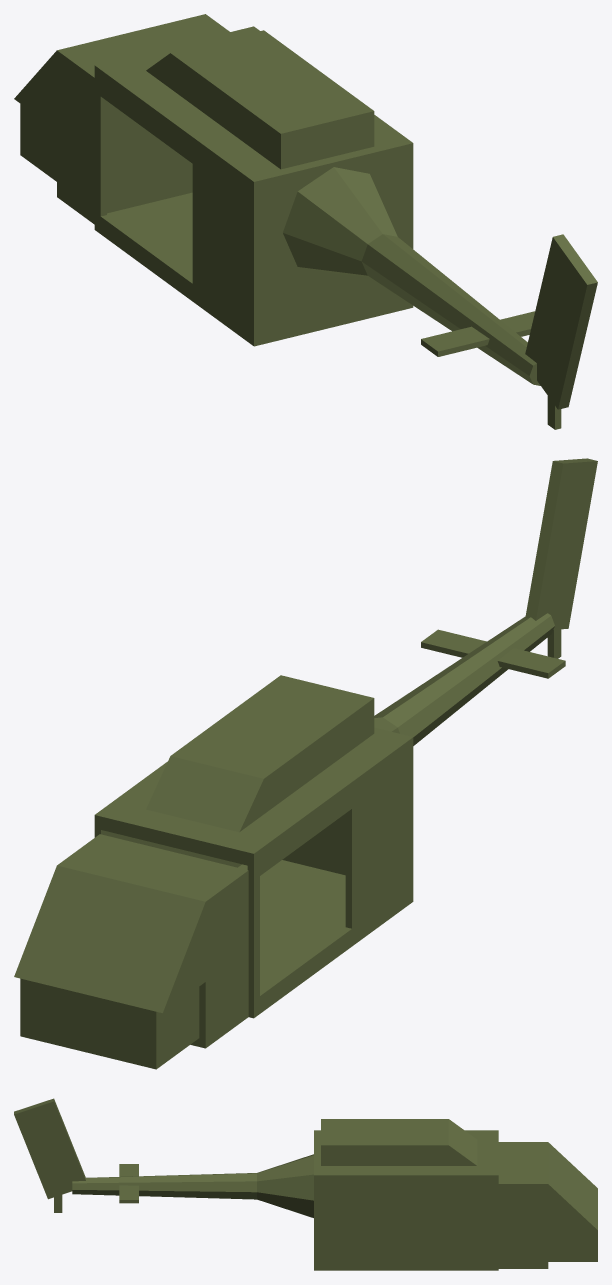
Rendered from veh_lantern_body.fbx.
The picture shows the model from 3 angles, top to bottom: view 1: azimuth 30°, elevation 25°; view 2: azimuth 150°, elevation 25°; view 3: azimuth 270°, elevation 25°; orthographic projection. The views are drawn at different scales.
Parts seen in each view (by area): view 1: veh_lantern_body; view 2: veh_lantern_body; view 3: veh_lantern_body.
Boxes of the visible parts, x1,y1,x2,y2 form: veh_lantern_body: (14,14,597,429); veh_lantern_body: (14,458,597,1069); veh_lantern_body: (14,1098,597,1270).
Size of the model in its own units: 750 by 1150 by 4111.
